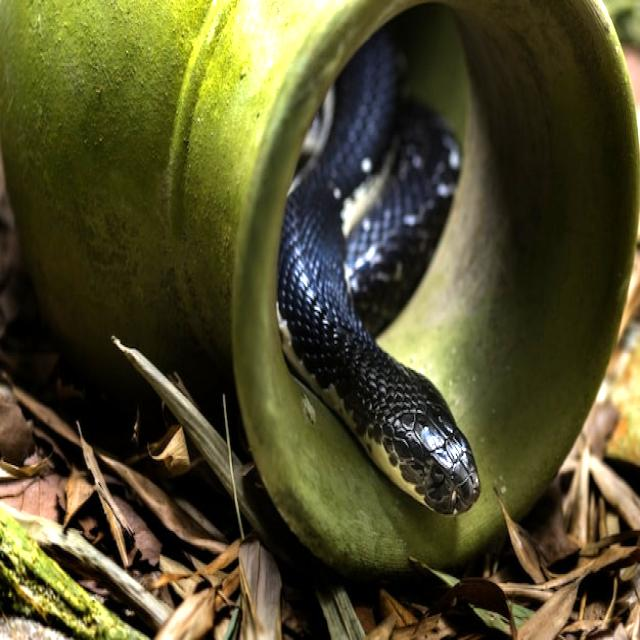Naja siamensis: (278, 31, 479, 514)
snake: (278, 31, 479, 514)
